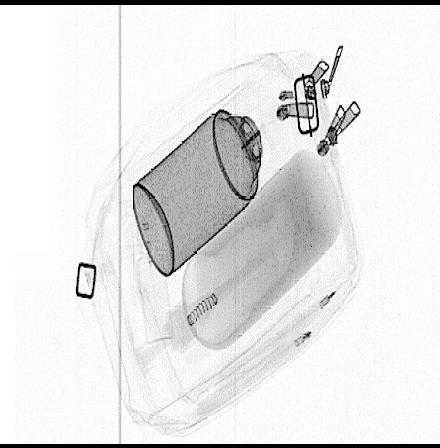Sprayer: (132, 73, 289, 277)
